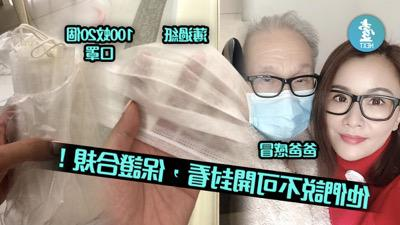with_mask: (247, 58, 320, 141)
without_mask: (325, 83, 396, 161)
